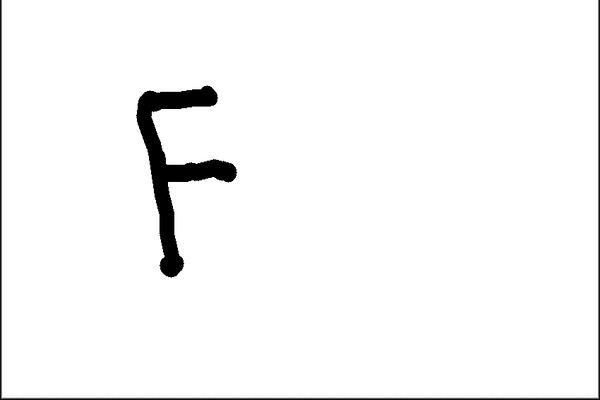F: (132, 81, 239, 281)
